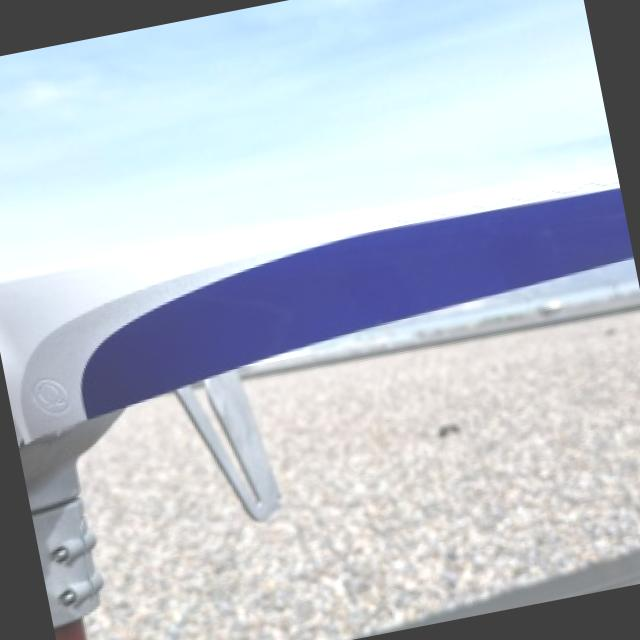healthy: (0, 165, 633, 640)
